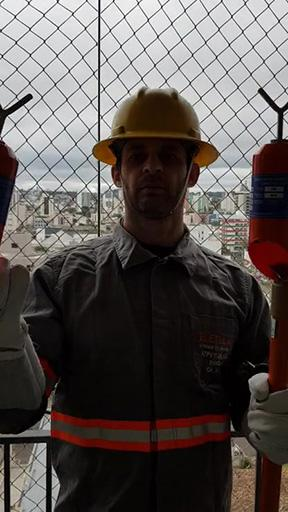Detector_Tensao_Contato: (248, 85, 288, 284)
